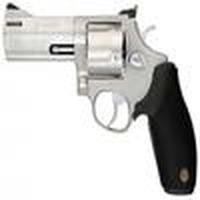gun: (6, 7, 200, 195)
